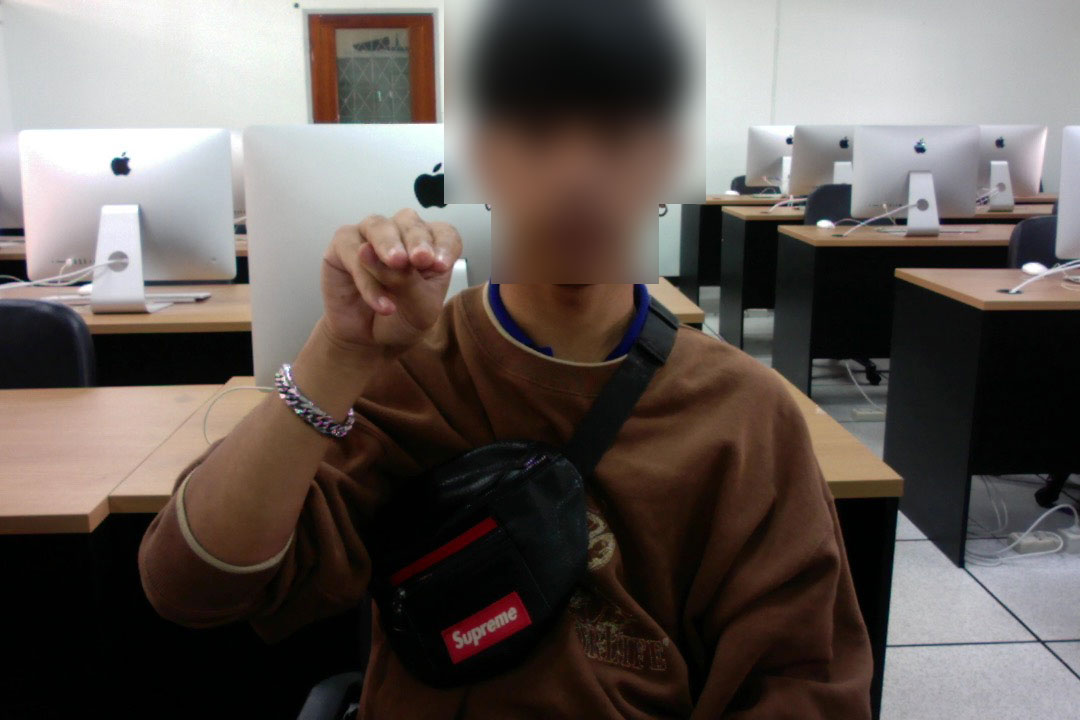mor: (318, 199, 465, 361)
